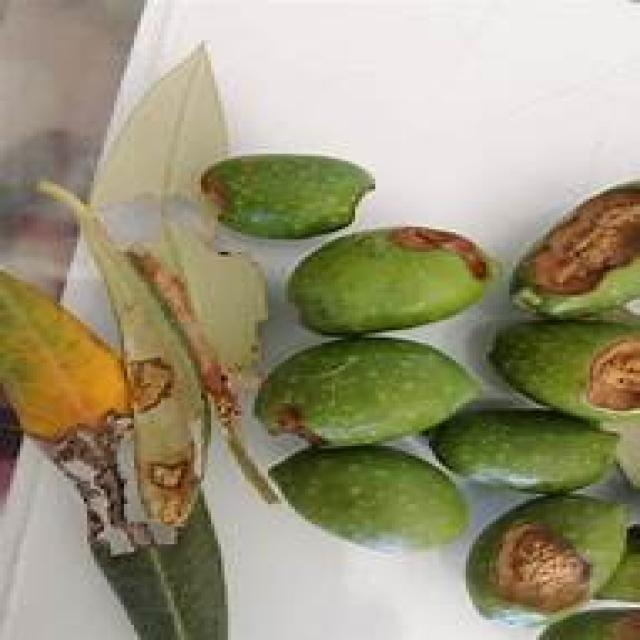Healthy: (268, 446, 462, 547), (429, 408, 613, 489)
Olive Fruit Fly: (255, 338, 479, 443), (288, 227, 489, 340), (466, 496, 627, 622), (513, 181, 637, 317), (493, 320, 637, 421), (204, 154, 372, 237)
Peacock Eye: (0, 272, 225, 637)
